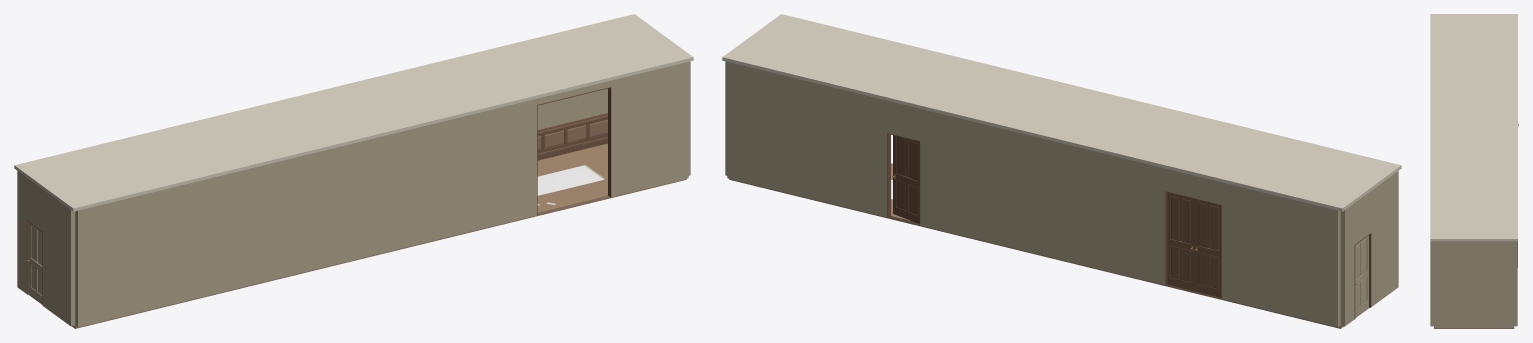
The model's file is gallery.glb.
The picture shows the model from 3 angles, left to right: view 1: azimuth 30°, elevation 25°; view 2: azimuth 150°, elevation 25°; view 3: azimuth 270°, elevation 25°; orthographic projection. The views are drawn at different scales.
Visible parts, largest first — view 1: ROOM__gallery, LEAF__service_jib__0; view 2: ROOM__gallery, LEAF__dining__1, LEAF__dining__0, LEAF__study__0, LEAF__service_jib__0; view 3: ROOM__gallery.
Part boxes in pixels (x1=…): ROOM__gallery: x1=14, y1=14, x2=693, y2=328; LEAF__service_jib__0: x1=27, y1=222, x2=42, y2=303; ROOM__gallery: x1=722, y1=14, x2=1401, y2=328; LEAF__dining__1: x1=1167, y1=192, x2=1194, y2=291; LEAF__dining__0: x1=1194, y1=199, x2=1220, y2=297; LEAF__study__0: x1=892, y1=135, x2=919, y2=223; LEAF__service_jib__0: x1=1355, y1=235, x2=1368, y2=316; ROOM__gallery: x1=1430, y1=14, x2=1517, y2=328.
Bounding box in the file's own units: 20.03 × 3.8 × 3.33.
